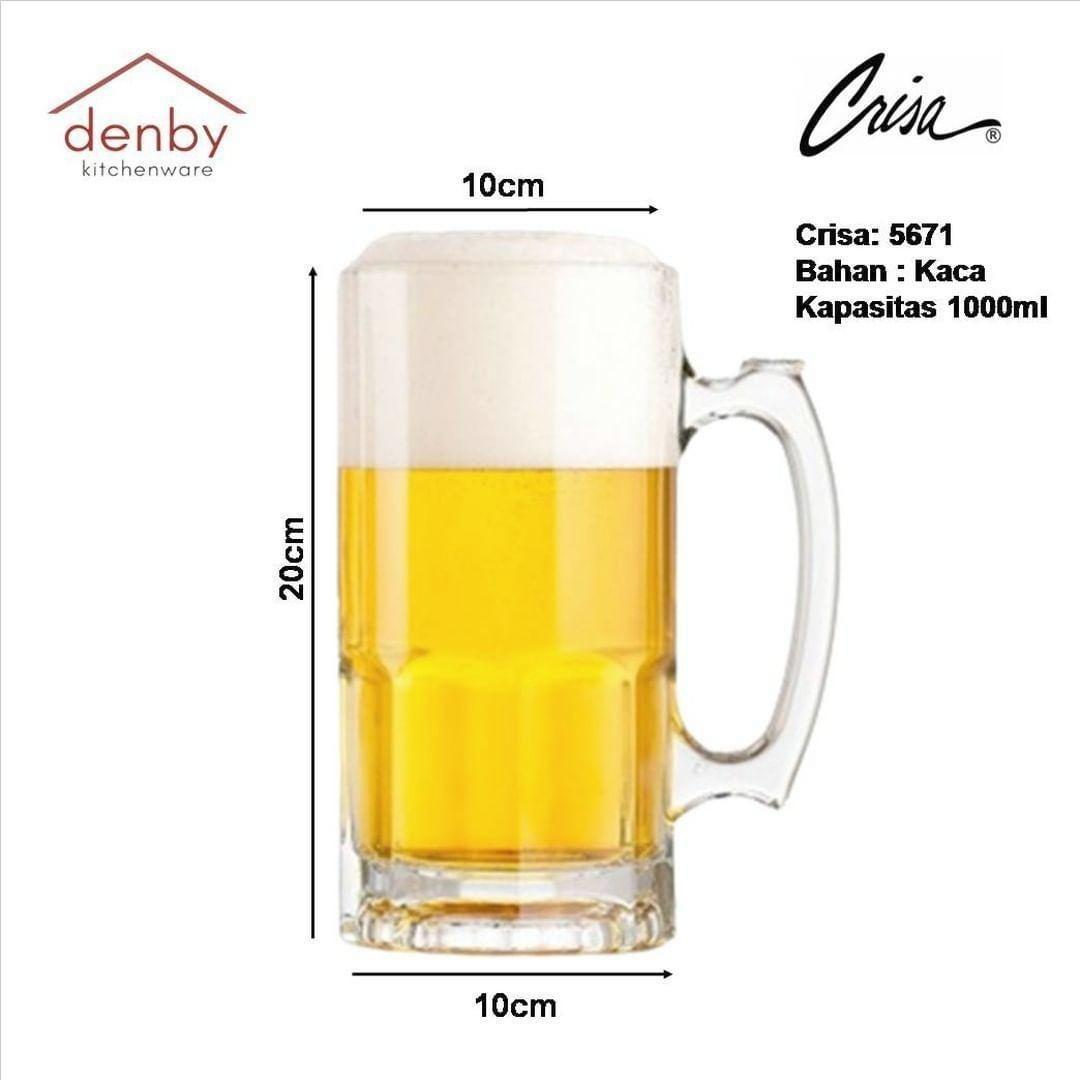glass-mug: (331, 235, 860, 966)
